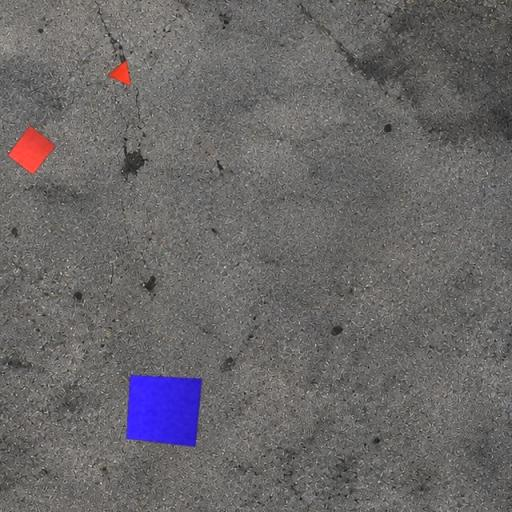BLUE_SQUARE: (126, 374, 203, 448)
RED_SQUARE: (6, 125, 57, 176)
